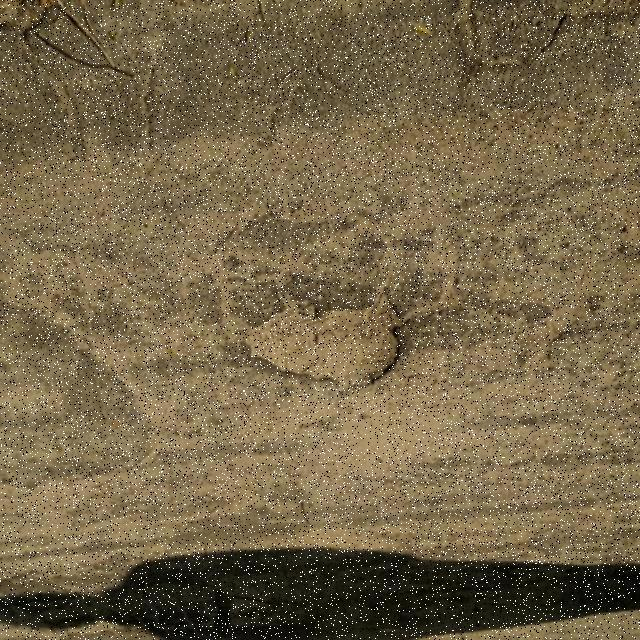Pothole: (237, 293, 402, 383)
